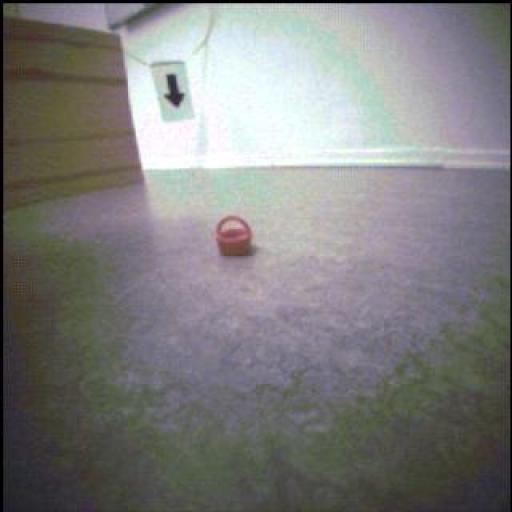Arrow: (166, 75, 185, 108)
Bucket: (217, 217, 252, 257)
